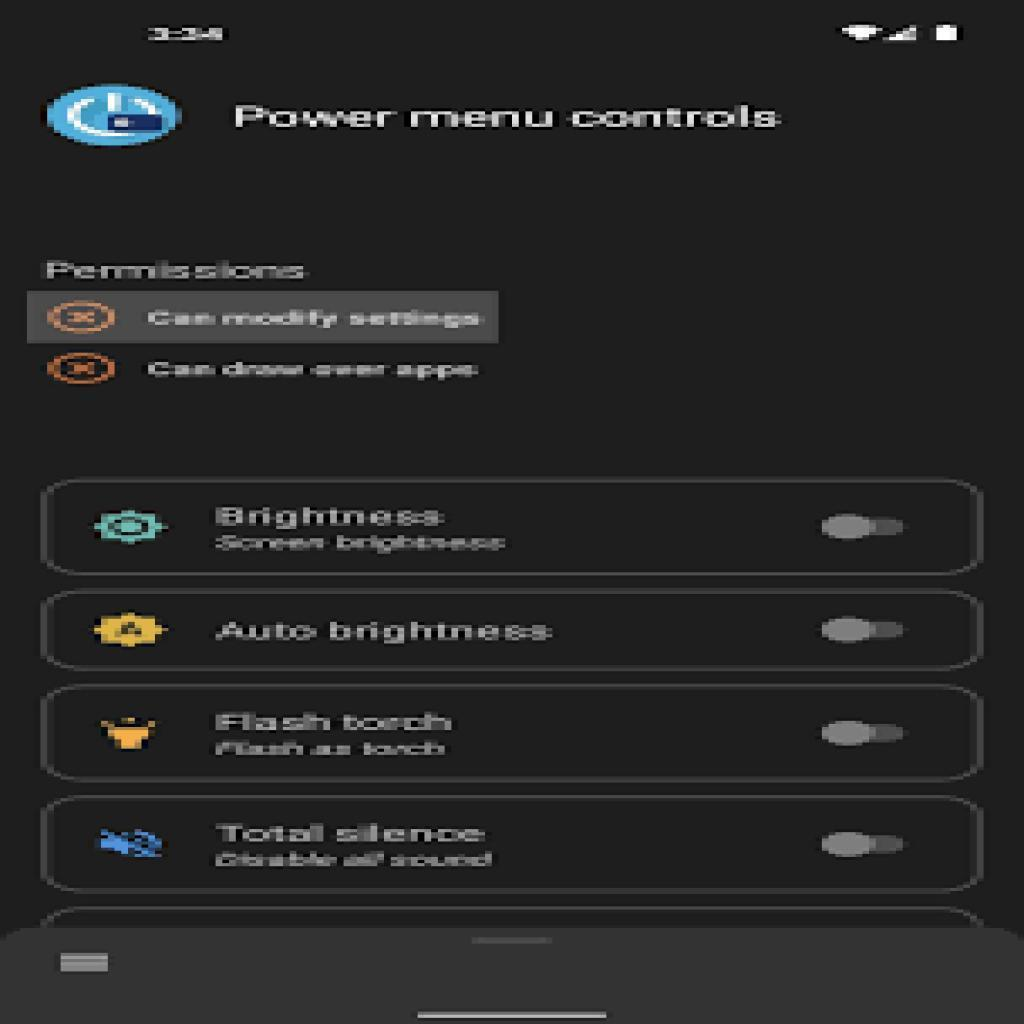icon: (95, 711, 173, 761), (92, 607, 169, 654), (91, 505, 166, 552), (94, 820, 165, 866)
label: (147, 298, 491, 337), (215, 614, 558, 652), (145, 351, 484, 386), (220, 817, 500, 850), (212, 711, 460, 739), (217, 501, 447, 531)
radio: (44, 348, 122, 389), (46, 300, 122, 337)
switch: (822, 830, 907, 860), (817, 513, 908, 541), (821, 720, 905, 749), (820, 616, 907, 643)
